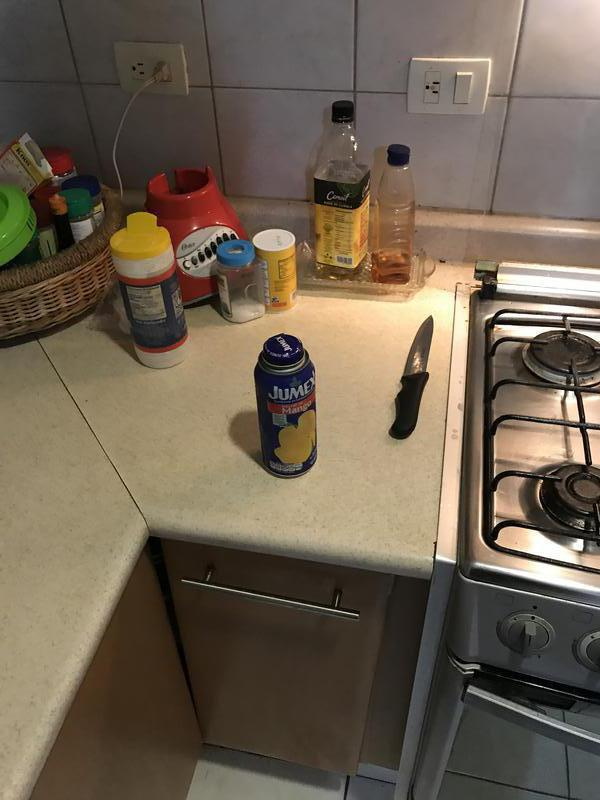jugo_jumex: (255, 335, 320, 478)
